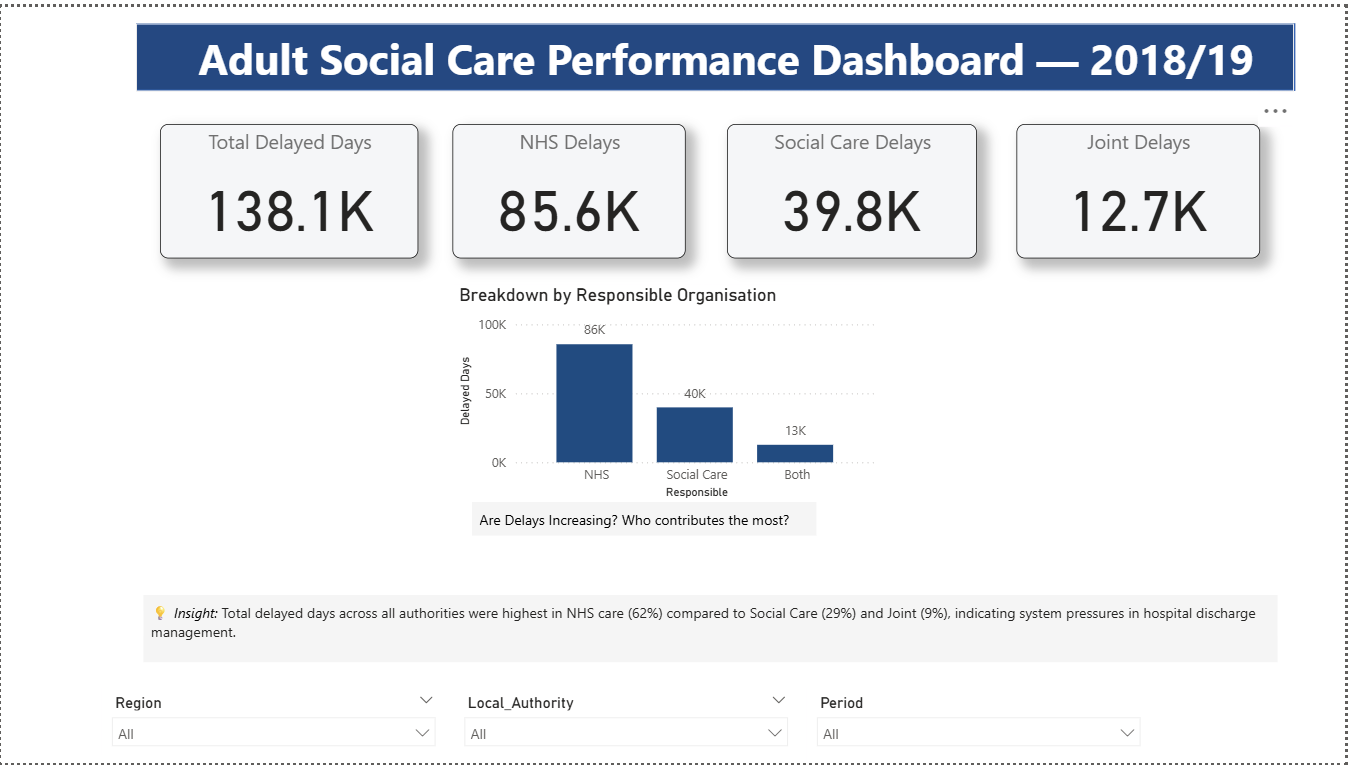

Layout of this report page (visuals, bound fields, positions):
{"tool":"powerbi","page":{"name":"Overview Dashboard","canvas":[1280,720],"ordinal":0},"visuals":[{"type":"card","title":"Total Delayed Days","fields":{"Values":["LA - by responsible org.Total Delayed Days"]},"box":[152,112,246.1,128],"z":0,"group":"g2"},{"type":"group","id":"g1","title":"Group 2","box":[96,648,1000,72],"z":0},{"type":"slicer","fields":{"Values":["LA - by type of care.Region"]},"box":[96,648,328,64],"z":0,"group":"g1"},{"type":"group","id":"g2","title":"Group 3","box":[152,112,1048,128],"z":1000},{"type":"card","title":"Social Care Delays","fields":{"Values":["LA - by responsible org.Social Care Delayed Days"]},"box":[691.9,112,238.2,128],"z":1000,"group":"g2"},{"type":"slicer","fields":{"Values":["Local Authority Lookup.Local_Authority"]},"box":[432,648,328,71.1],"z":1000,"group":"g1"},{"type":"shape","box":[128,16,1104,64],"z":2000},{"type":"card","title":"NHS Delays","fields":{"Values":["LA - by responsible org.NHS Delayed Days"]},"box":[429.9,112,222.3,128],"z":2000,"group":"g2"},{"type":"slicer","fields":{"Values":["LA - by type of care.Period"]},"box":[768,648,328,72],"z":2000,"group":"g1"},{"type":"card","title":"Joint Delays","fields":{"Values":["LA - by responsible org.Joint Delayed Days"]},"box":[968,112,232,128],"z":3000,"group":"g2"},{"type":"columnChart","title":"Breakdown by Responsible Organisation","fields":{"Category":["Responsible Type.Responsible"],"Y":["Responsible Type.Delayed Days by Responsible"]},"box":[432,264,408,208],"z":3000},{"type":"textbox","box":[448,472,328,32],"z":4000},{"type":"textbox","box":[0,264,246,208],"z":5001},{"type":"card","fields":{"Values":["LA - by responsible org.Insight Text"]},"box":[96,536,1072,64],"z":5002}]}

Visuals, with their boxes in screenshot pixels (x1, y1, x2, y2), scaled from the page's 1280x720 canvas onto the 1348x765 screenshot:
"Total Delayed Days" card: [left=160, top=119, right=419, bottom=255]
"Group 2" group: [left=101, top=688, right=1154, bottom=764]
slicer - LA - by type of care.Region: [left=101, top=688, right=447, bottom=756]
"Group 3" group: [left=160, top=119, right=1264, bottom=255]
"Social Care Delays" card: [left=729, top=119, right=980, bottom=255]
slicer - Local Authority Lookup.Local_Authority: [left=455, top=688, right=800, bottom=764]
shape: [left=135, top=17, right=1297, bottom=85]
"NHS Delays" card: [left=453, top=119, right=687, bottom=255]
slicer - LA - by type of care.Period: [left=809, top=688, right=1154, bottom=764]
"Joint Delays" card: [left=1019, top=119, right=1264, bottom=255]
"Breakdown by Responsible Organisation" columnChart: [left=455, top=280, right=885, bottom=502]
textbox: [left=472, top=502, right=817, bottom=536]
textbox: [left=0, top=280, right=259, bottom=502]
card - LA - by responsible org.Insight Text: [left=101, top=570, right=1230, bottom=638]
